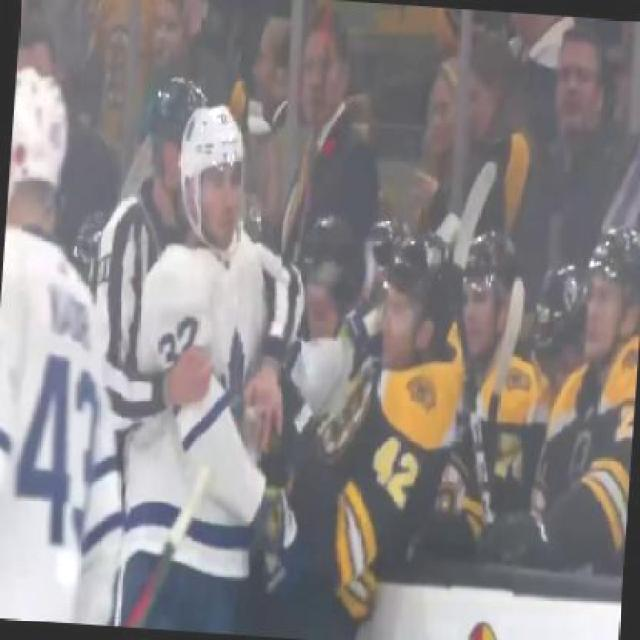fight: (116, 103, 482, 639)
